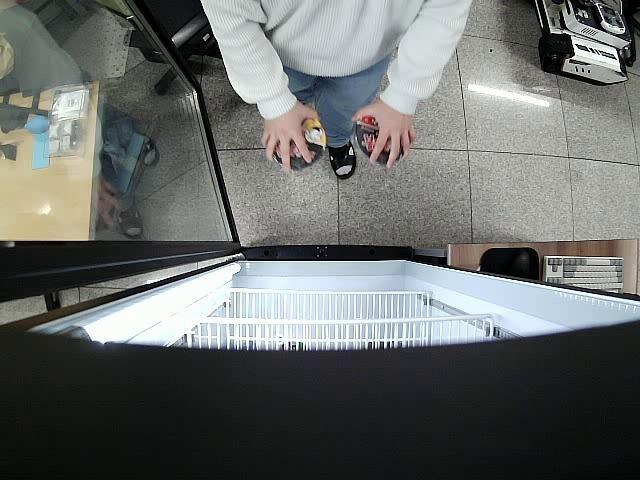07_buldak_L: (272, 117, 326, 172), (352, 116, 403, 165)
